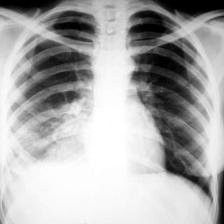tuberculosis: (1, 0, 221, 224)
